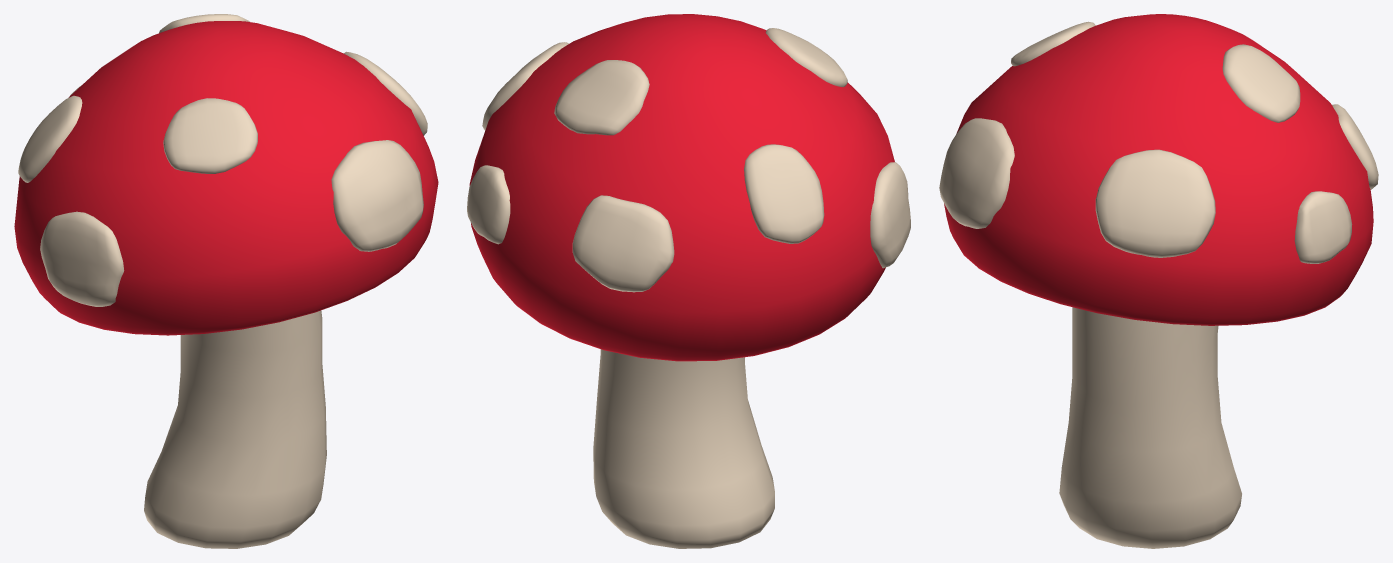
The model's file is mushroom.glb.
The picture shows the model from 3 angles, left to right: view 1: azimuth 30°, elevation 25°; view 2: azimuth 150°, elevation 25°; view 3: azimuth 270°, elevation 25°; orthographic projection.
Parts seen in each view (by area): view 1: top, base; view 2: top, base; view 3: top, base.
Boxes of the visible parts, <box> form: top: <box>14,14,438,335</box>; base: <box>144,310,326,548</box>; top: <box>467,14,910,361</box>; base: <box>593,349,774,548</box>; top: <box>939,14,1378,325</box>; base: <box>1059,307,1241,548</box>.
Bounding box in the file's own units: 5.17 × 6.29 × 5.15.
